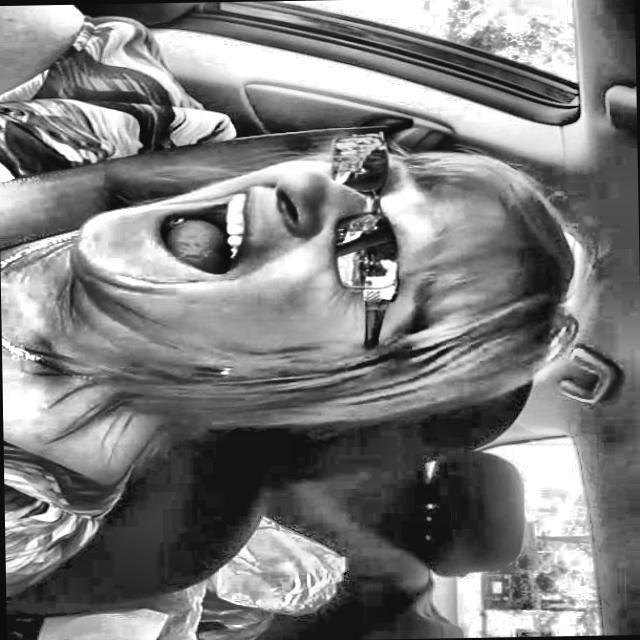open_mouth: (126, 177, 267, 287)
